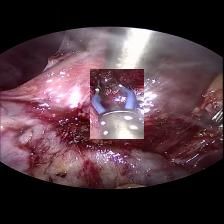Bipolar: (90, 68, 144, 138)
